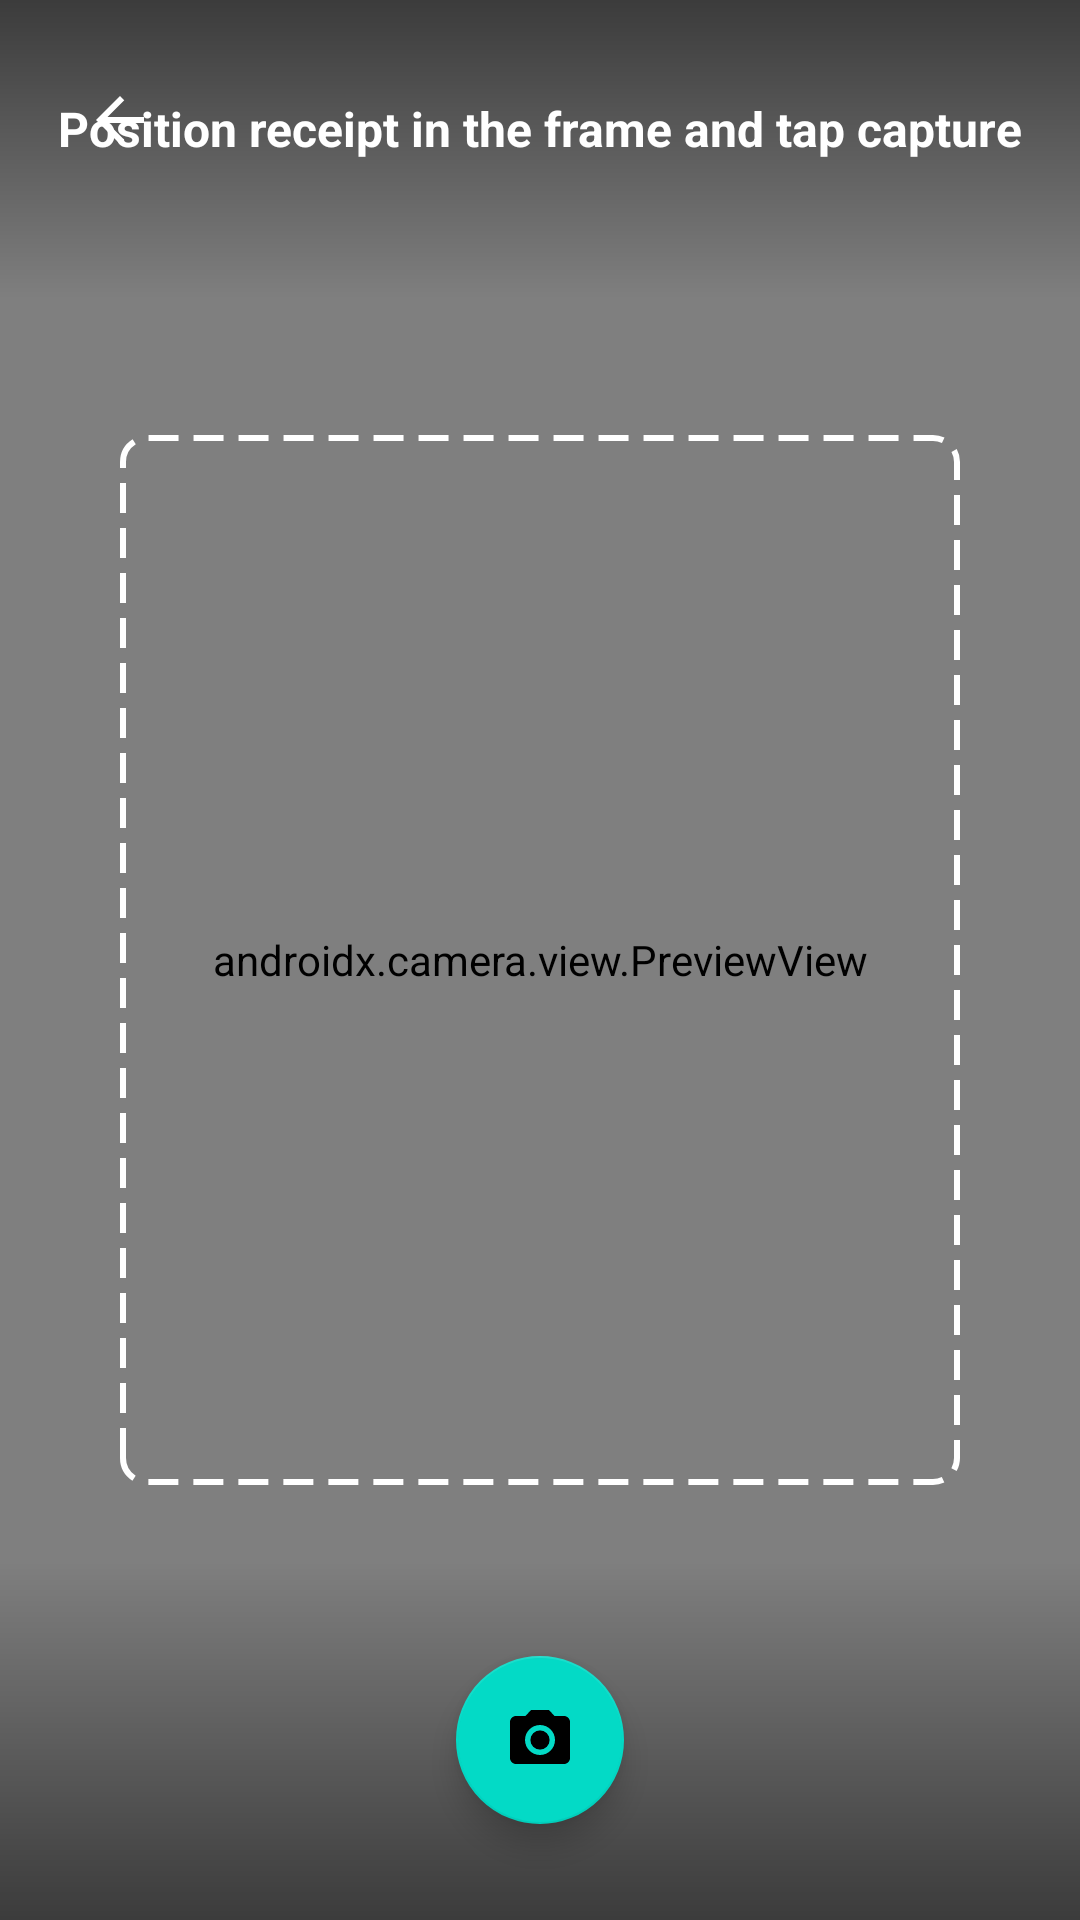

Point at icon controls on the screen. Image size 1080px×1920px, points as [x,y].
Capture Receipt: [540,1740]
